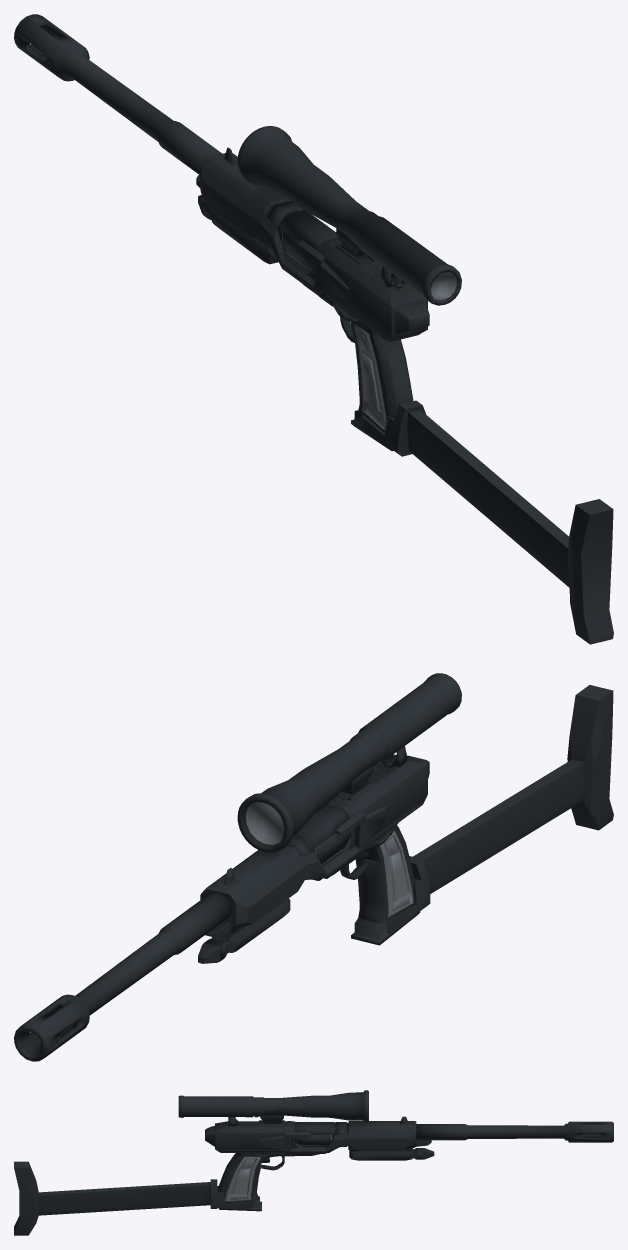
Rendered from scout_pistol.glb.
The picture shows the model from 3 angles, top to bottom: view 1: azimuth 30°, elevation 25°; view 2: azimuth 150°, elevation 25°; view 3: azimuth 270°, elevation 25°; orthographic projection. The views are drawn at different scales.
Visible parts, largest first — view 1: scout_pistol, SlidingBolt; view 2: scout_pistol, SlidingBolt, InsertedAmmo; view 3: scout_pistol, SlidingBolt, InsertedAmmo.
Boxes of the visible parts, x1,y1,x2,y2 form: scout_pistol: [14, 14, 613, 644]; SlidingBolt: [259, 184, 458, 341]; scout_pistol: [14, 673, 613, 1061]; SlidingBolt: [286, 710, 452, 880]; InsertedAmmo: [351, 862, 421, 945]; scout_pistol: [14, 1090, 613, 1235]; SlidingBolt: [178, 1114, 351, 1154]; InsertedAmmo: [217, 1186, 261, 1211].
Size of the model in its own units: 0.0567 by 0.2717 by 1.05.
Materials: 1 (1 with a texture image).
